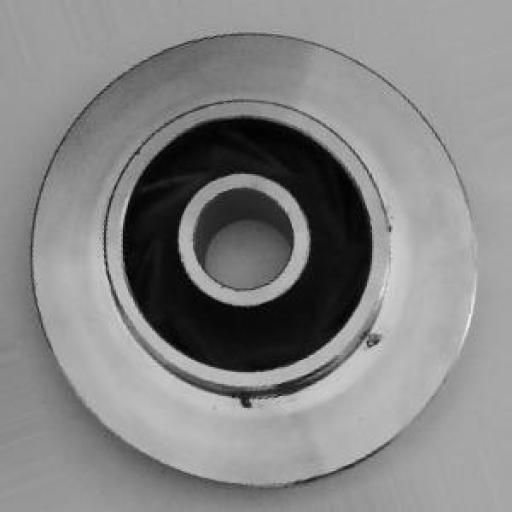defect: (183, 320, 416, 416)
